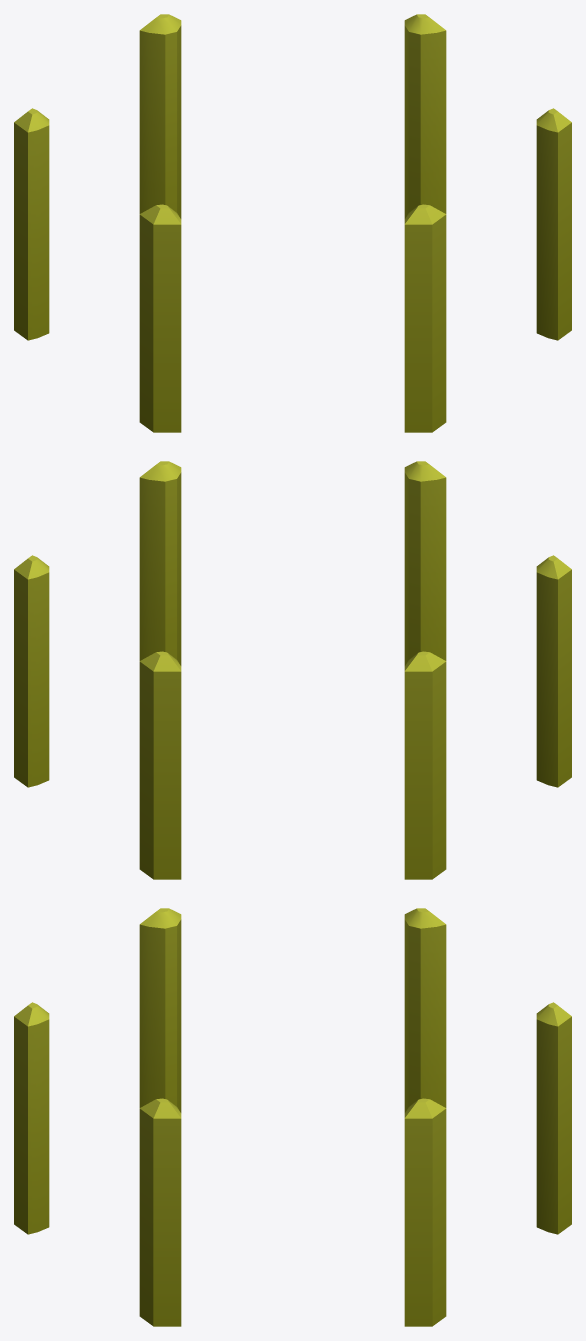
The model's file is hex-river-l-waterless.glb.
The picture shows the model from 3 angles, top to bottom: view 1: azimuth 30°, elevation 25°; view 2: azimuth 150°, elevation 25°; view 3: azimuth 270°, elevation 25°; orthographic projection.
Visible parts, largest first — view 1: hex_river_L_waterless; view 2: hex_river_L_waterless; view 3: hex_river_L_waterless.
Part boxes in pixels (box(x1,y1,x2,y2)): hex_river_L_waterless: box(14, 14, 571, 432); hex_river_L_waterless: box(14, 461, 571, 879); hex_river_L_waterless: box(14, 908, 571, 1326).
Size of the model in its own units: 2 by 1 by 2.31.
1 material, 1 textured.
